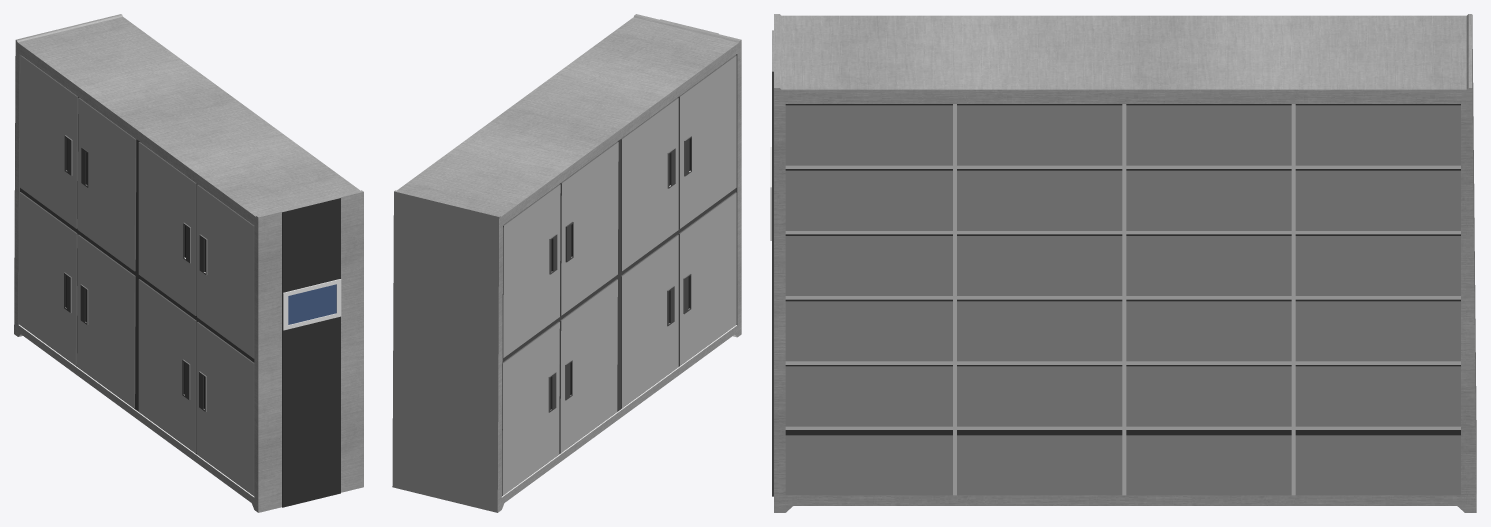
File: mjjleft6-4-fit.obj
3 renders of one model, left to right at view 1: azimuth 30°, elevation 25°; view 2: azimuth 150°, elevation 25°; view 3: azimuth 270°, elevation 25°, orthographic. The views are drawn at different scales.
Visible parts, largest first — view 1: mjj, Mesh02; view 2: mjj; view 3: mjj.
Boxes of the visible parts, x1=… form: mjj: x1=14, y1=14, x2=363, y2=512; Mesh02: x1=283, y1=279, x2=341, y2=330; mjj: x1=392, y1=14, x2=741, y2=512; mjj: x1=772, y1=14, x2=1476, y2=512.
Bounding box in the file's own units: 35.84 × 94.93 × 143.
